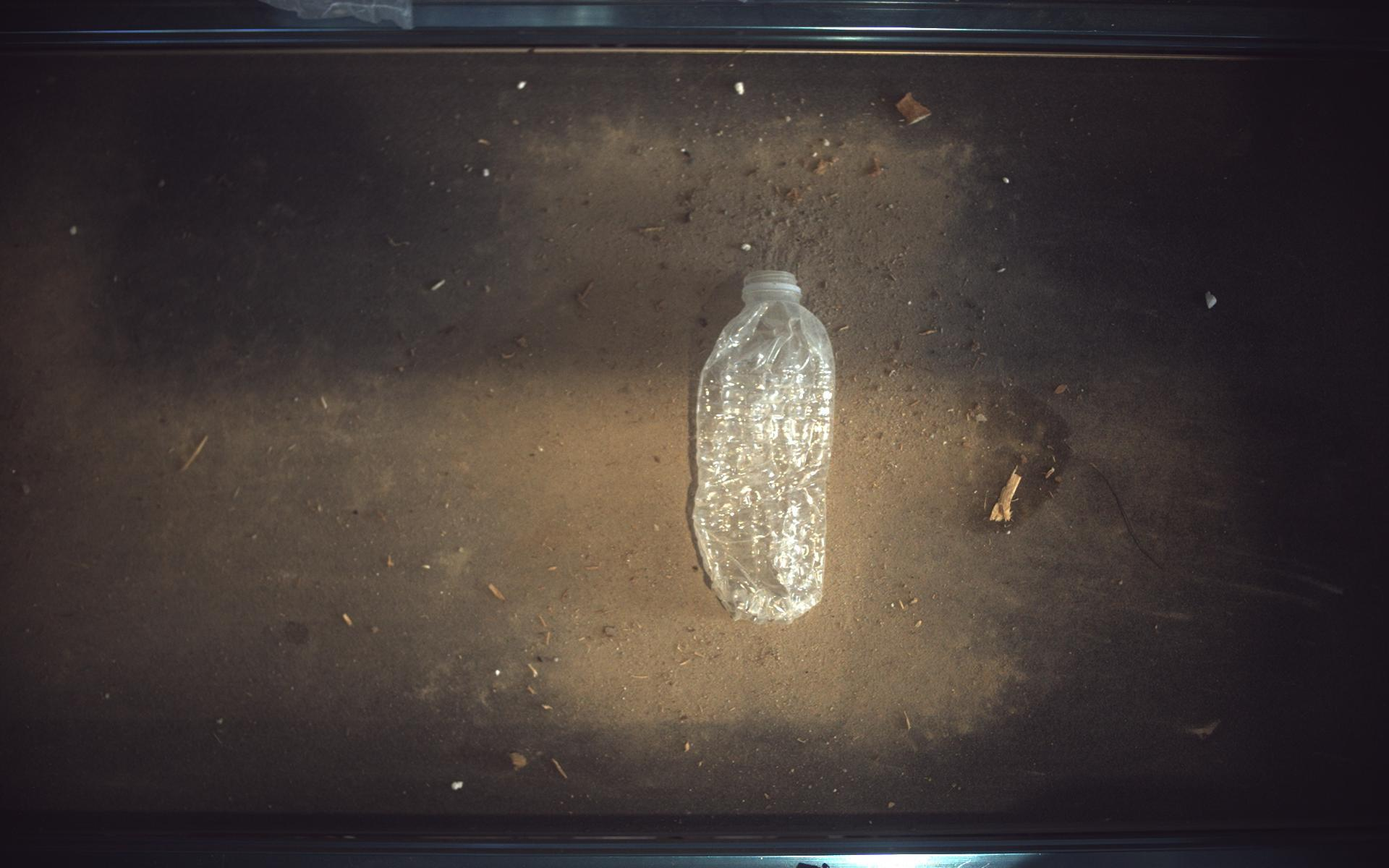general_w: (693, 270, 837, 623)
